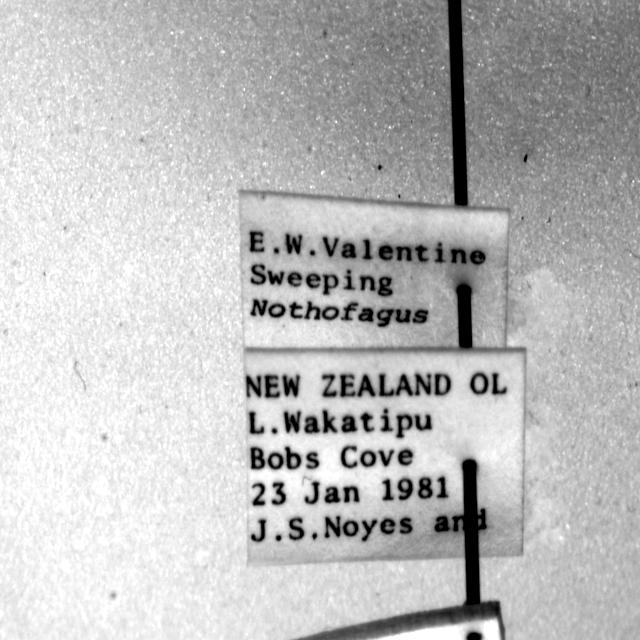typed_label: (245, 349, 525, 564), (240, 191, 509, 349)
